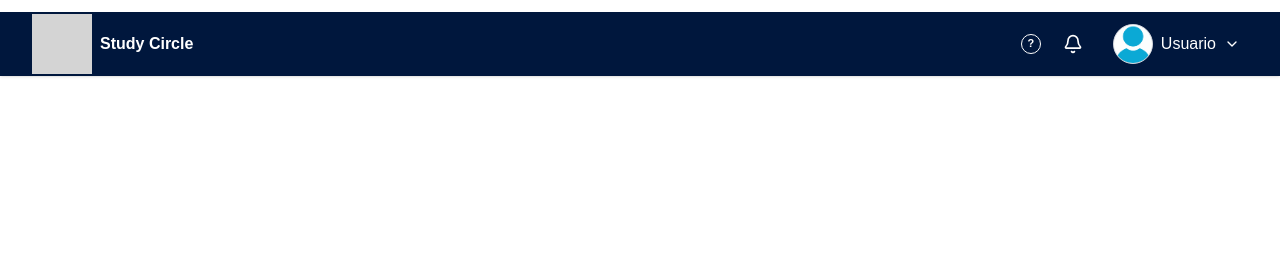
it: Notification › Si hay usuario y lista vacía muestra placeholder y no acciones
The image size is (1280, 254).
Click the button titled "Notificaciones" at (1073, 44), box [1053,24,1093,64]
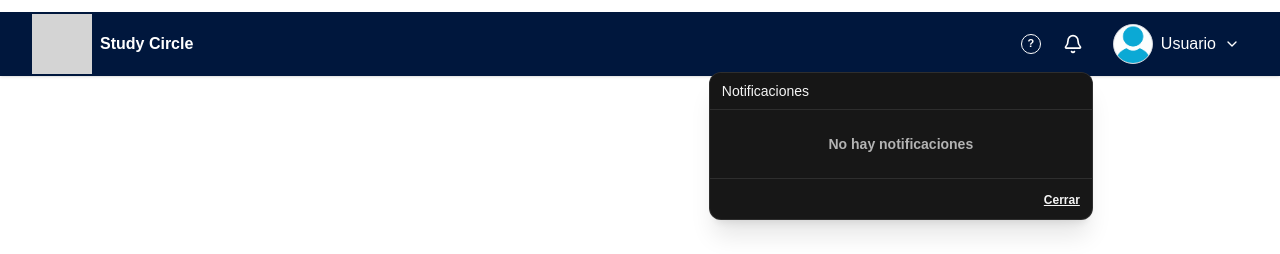
Expected: the text "No hay notificaciones" is shown, [828,136,973,152]
